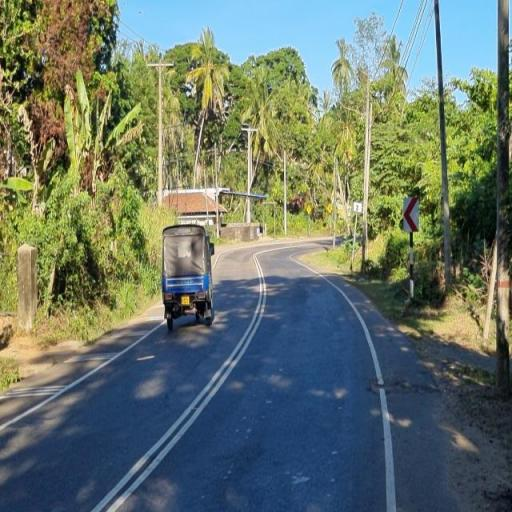double_white_line: (83, 245, 269, 511)
